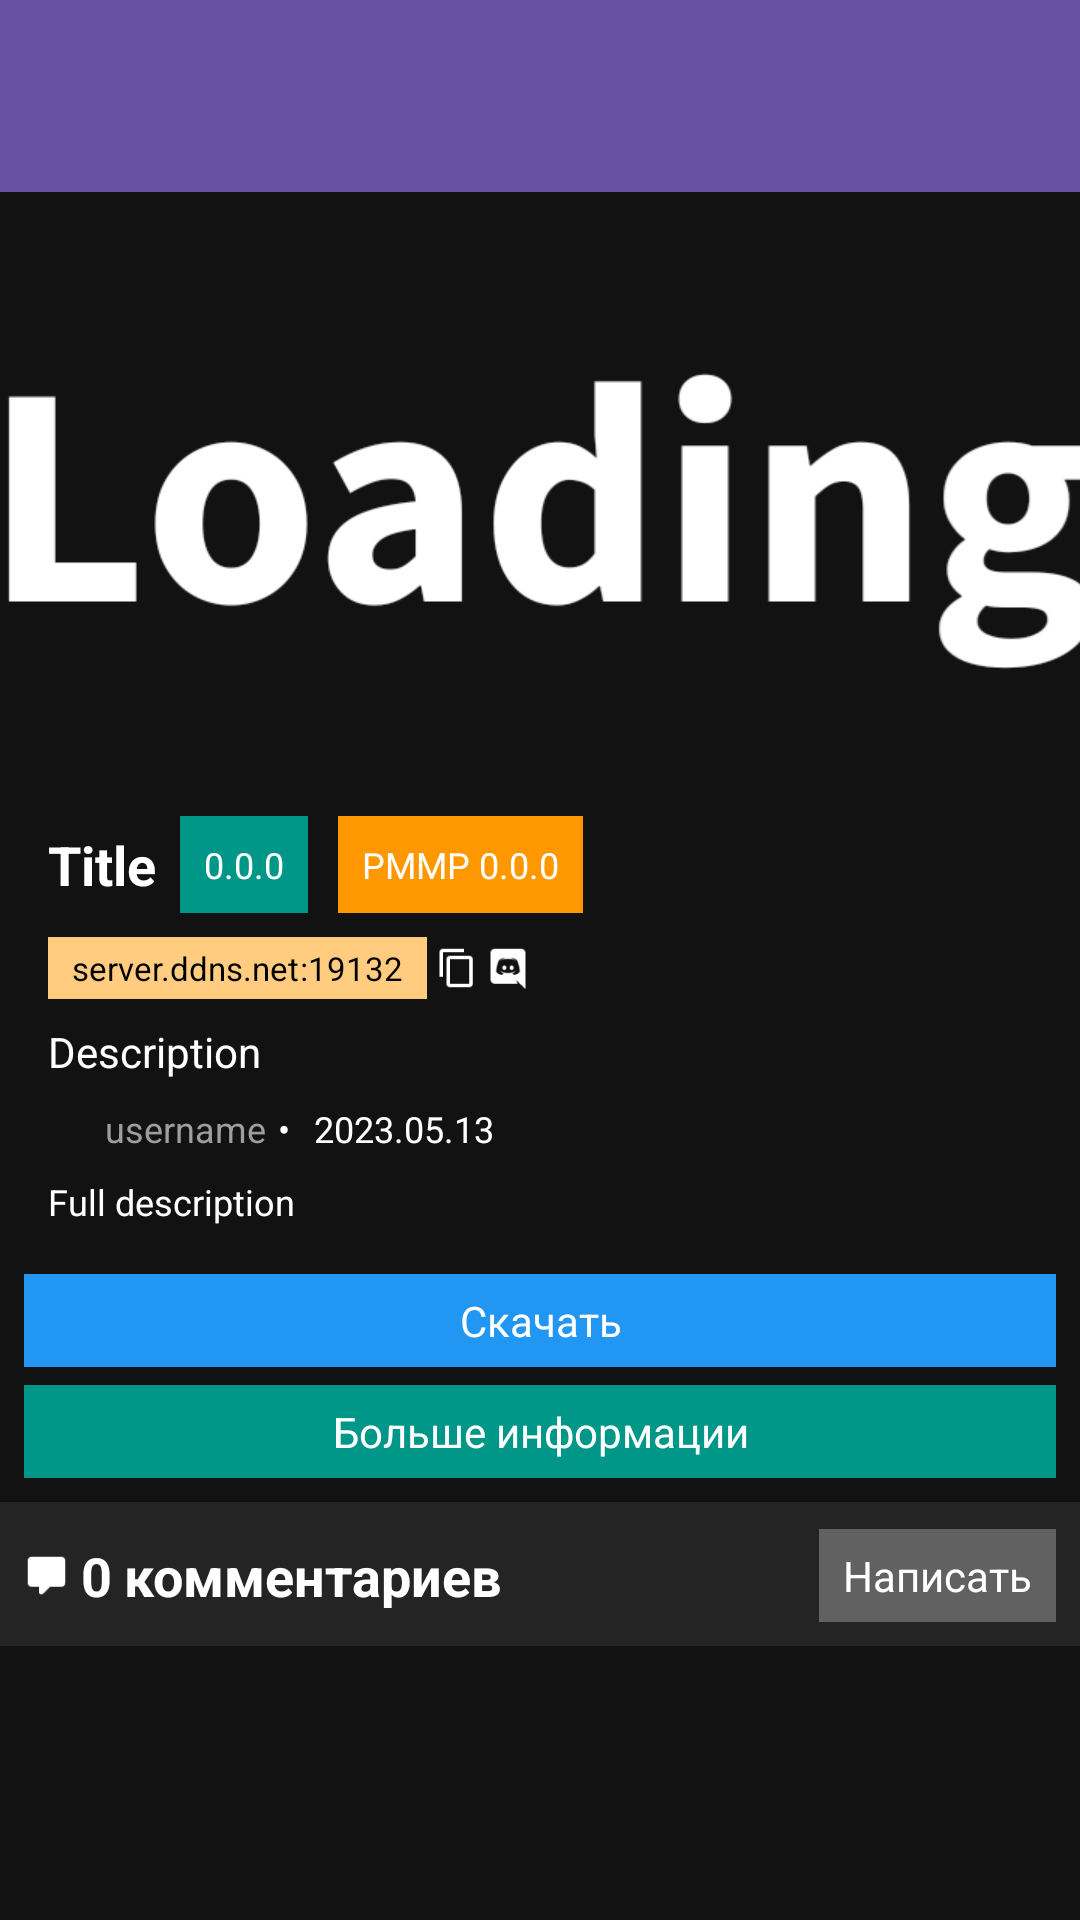

Where icons sit on this 1080×1920 app screen, as (x1, y1, x2, y2):
comment: (27, 1556, 66, 1595)
